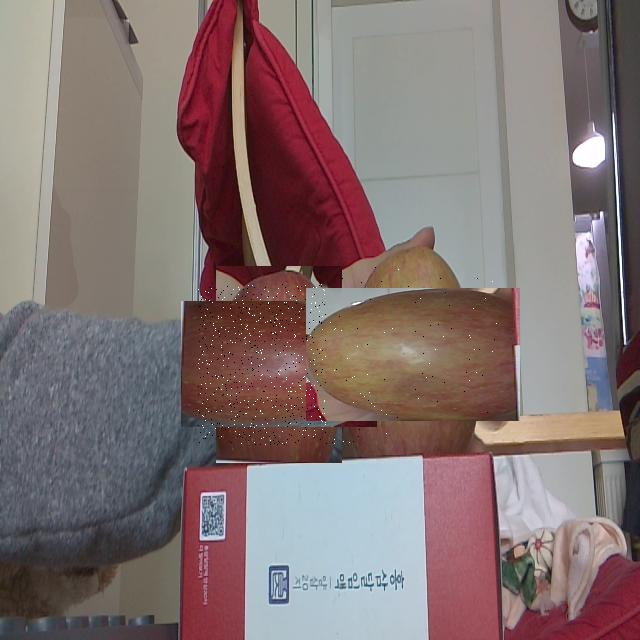apple: (327, 267, 500, 441), (198, 284, 360, 445)
